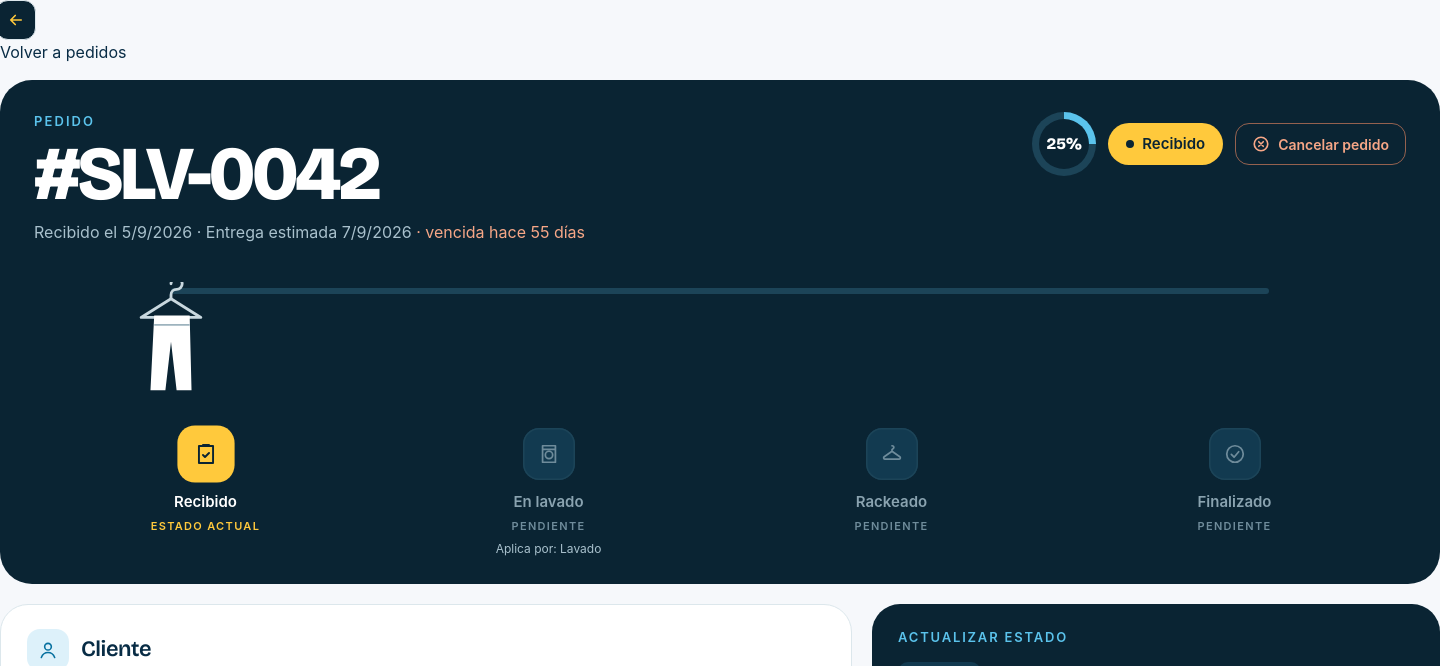
it: OrderDetailPage › recarga el estado real cuando el servidor rechaza cancelar por estar en proceso
This screenshot has width=1440, height=666.
Click the button "Cancelar pedido": (1321, 144) 1235,123 -> 1406,165
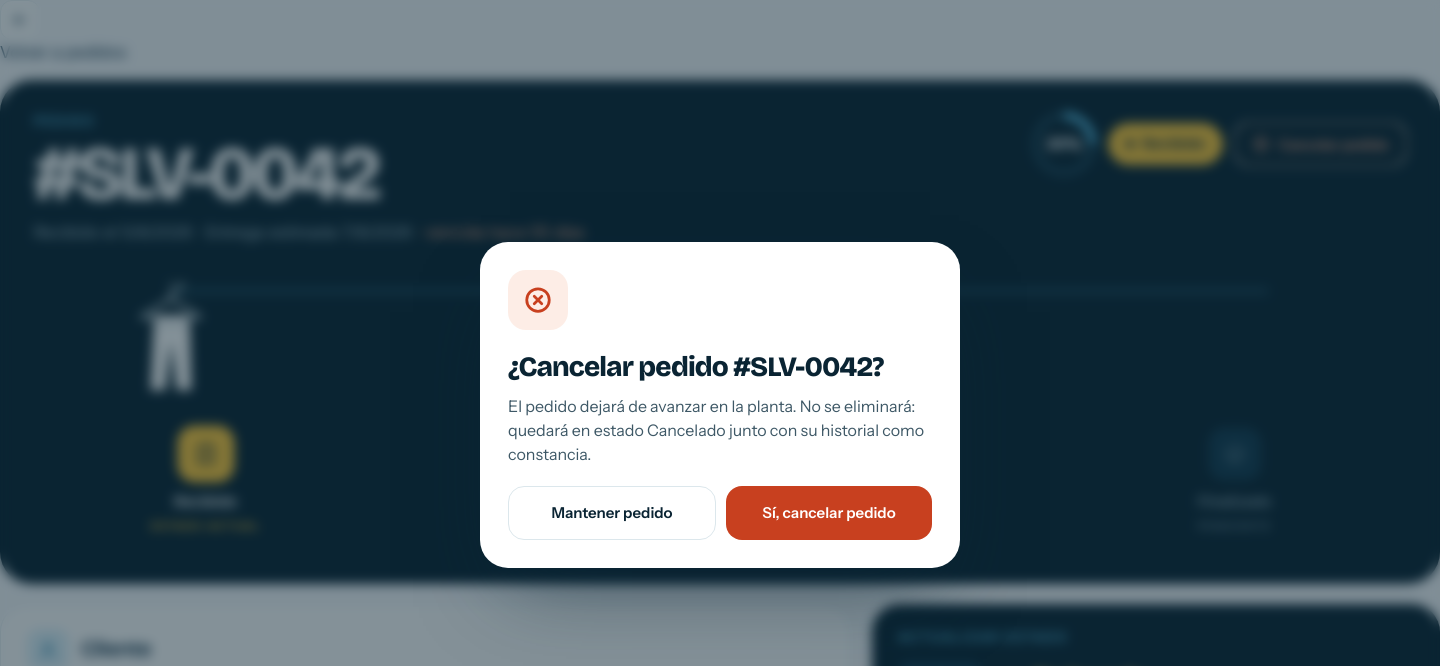
Click the button "Sí, cancelar pedido": (829, 513) 726,486 -> 932,540
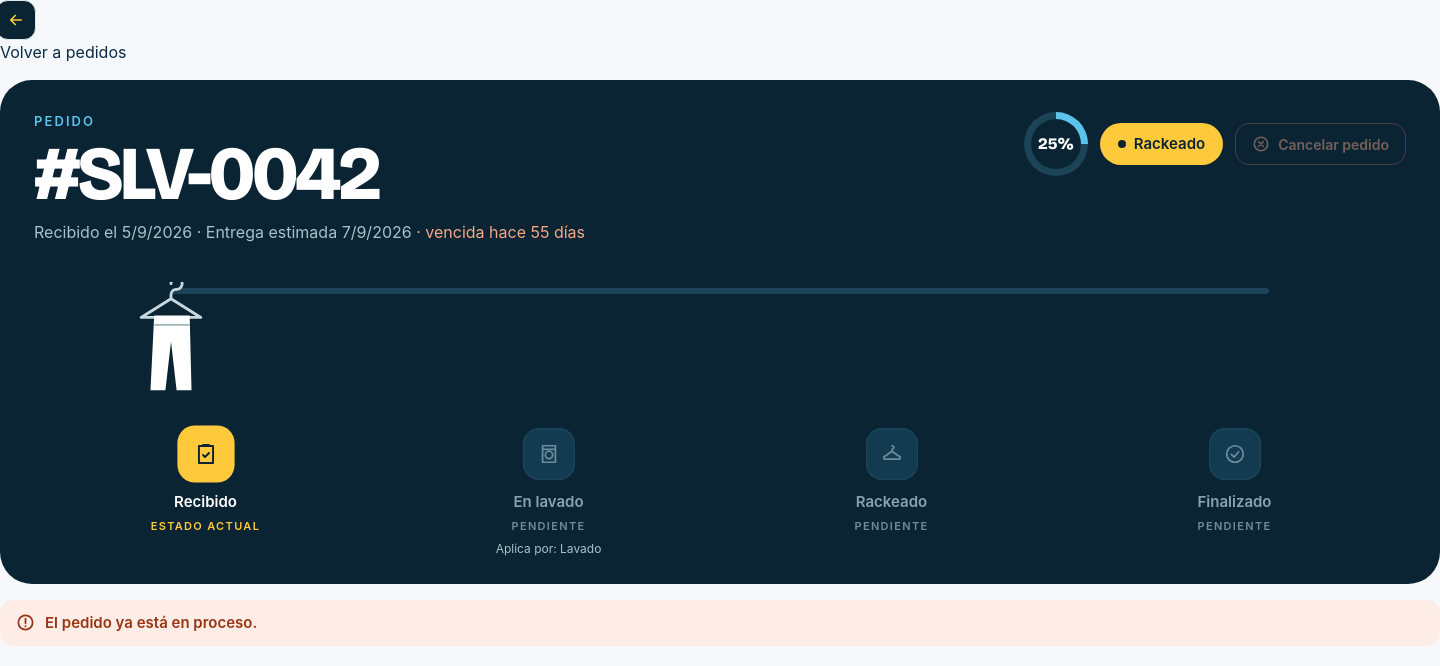
Now the message "El pedido ya está en proceso." is shown, box 0,600 -> 1439,646
Now the button "Cancelar pedido" is disabled, box 1235,123 -> 1406,165
